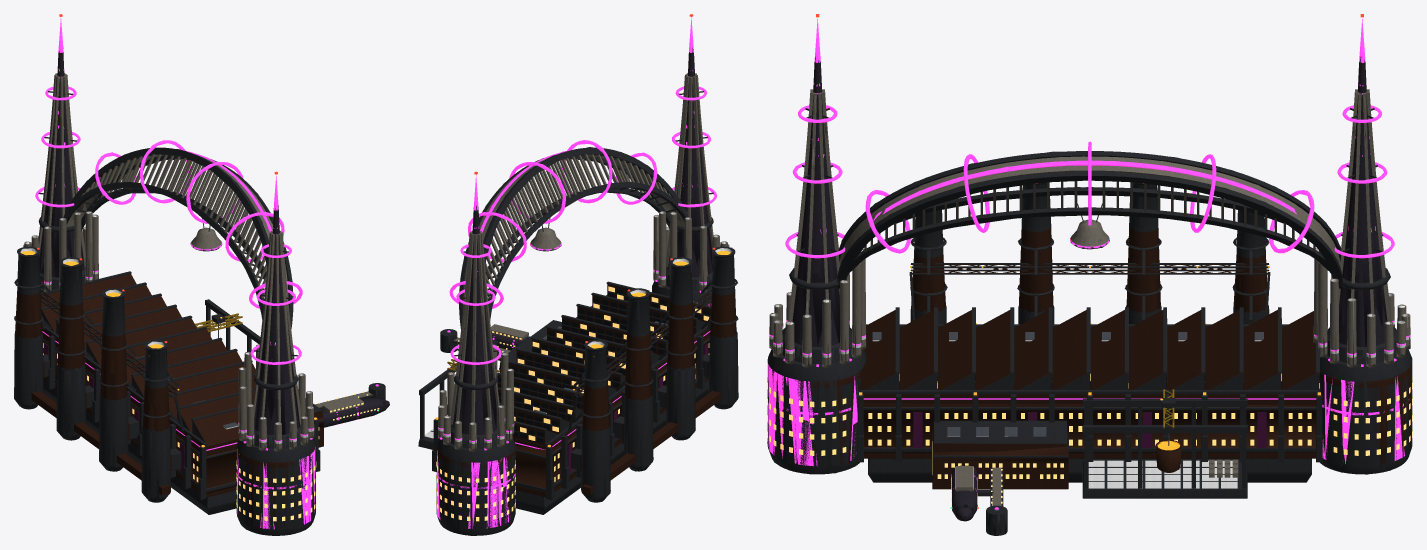
File: place_landmark_resonant_cathedral.glb
3 views of the same model, side by side, from view 1: azimuth 30°, elevation 25°; view 2: azimuth 150°, elevation 25°; view 3: azimuth 270°, elevation 25° (orthographic). The views are drawn at different scales.
Parts seen in each view (by area): view 1: LOD0_Hull_graphite, LOD0_Hull, LOD0_Armor, LOD1_Hull_graphite, LOD2_Hull_graphite, LOD1_Hull, LOD2_Armor, LOD1_Armor, LOD2_Hull_spire, LOD1_Hull_spire, LOD0_Lights_Cyan_magenta, LOD1_Lights_Cyan_magenta (+4 smaller); view 2: LOD0_Hull_graphite, LOD0_Hull, LOD1_Hull_graphite, LOD2_Hull_graphite, LOD0_Armor, LOD1_Armor, LOD0_CANOPY, LOD2_Armor, LOD1_Hull, LOD2_Hull_spire, LOD1_Lights_Cyan_magenta, LOD0_Lights_Cyan_magenta (+6 smaller); view 3: LOD0_Hull_graphite, LOD0_Armor, LOD0_Hull, LOD1_Hull_graphite, LOD2_Hull_graphite, LOD1_Armor, LOD2_Armor, LOD2_Hull_spire, LOD1_Hull, LOD0_Lights_Cyan_magenta, LOD1_Lights_Cyan_magenta, LOD0_Lights_Warm (+7 smaller).
Part boxes in pixels (x1,y1,x2,y2): LOD0_Hull_graphite: (14, 91, 385, 535); LOD0_Hull: (23, 73, 372, 449); LOD0_Armor: (17, 274, 373, 497); LOD1_Hull_graphite: (14, 91, 371, 535); LOD2_Hull_graphite: (14, 148, 384, 535); LOD1_Hull: (30, 73, 369, 451); LOD2_Armor: (15, 291, 323, 528); LOD1_Armor: (16, 292, 369, 525); LOD2_Hull_spire: (40, 47, 389, 434); LOD1_Hull_spire: (39, 52, 389, 434); LOD0_Lights_Cyan_magenta: (35, 46, 378, 489); LOD1_Lights_Cyan_magenta: (35, 18, 377, 528); LOD0_Hull_graphite: (418, 91, 738, 535); LOD0_Hull: (438, 73, 729, 449); LOD1_Hull_graphite: (419, 92, 737, 535); LOD2_Hull_graphite: (418, 147, 738, 535); LOD0_Armor: (436, 284, 735, 497); LOD1_Armor: (438, 291, 735, 520); LOD0_CANOPY: (447, 288, 709, 443); LOD2_Armor: (437, 292, 736, 523); LOD1_Hull: (438, 74, 723, 451); LOD2_Hull_spire: (455, 48, 712, 433); LOD1_Lights_Cyan_magenta: (437, 18, 716, 528); LOD0_Lights_Cyan_magenta: (436, 46, 716, 489); LOD0_Hull_graphite: (767, 108, 1412, 535); LOD0_Armor: (769, 226, 1410, 501); LOD0_Hull: (769, 89, 1410, 505); LOD1_Hull_graphite: (767, 108, 1412, 520); LOD2_Hull_graphite: (767, 151, 1412, 535); LOD1_Armor: (833, 227, 1411, 482); LOD2_Armor: (836, 226, 1411, 472); LOD2_Hull_spire: (792, 56, 1382, 521); LOD1_Hull: (769, 89, 1410, 505); LOD0_Lights_Cyan_magenta: (769, 54, 1410, 509); LOD1_Lights_Cyan_magenta: (768, 18, 1402, 509); LOD0_Lights_Warm: (767, 373, 1412, 507).
Size of what is drawn, in the model's own units: 109 by 139 by 180.
14 materials, 8 textured.
